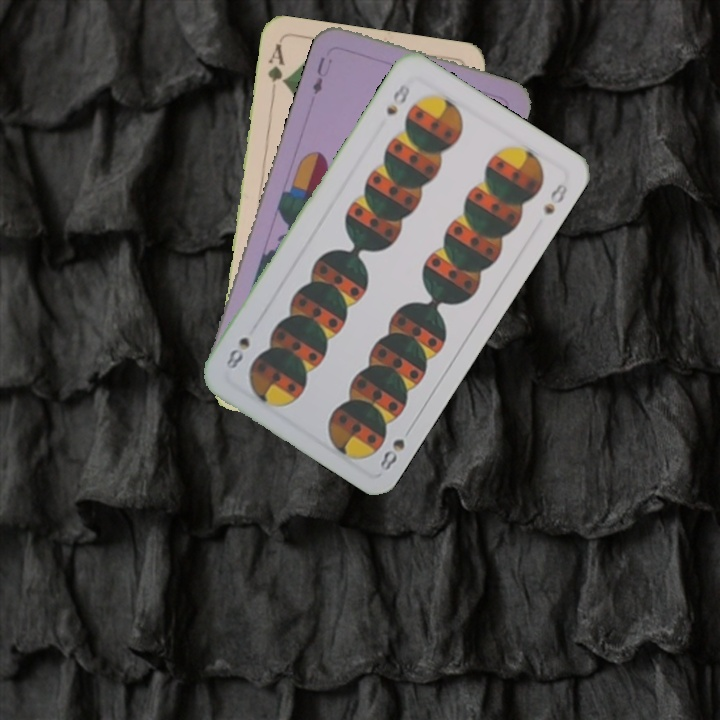EU: (308, 53, 335, 97)
GA: (264, 39, 289, 87)
S8: (375, 421, 416, 476), (381, 79, 413, 118)
